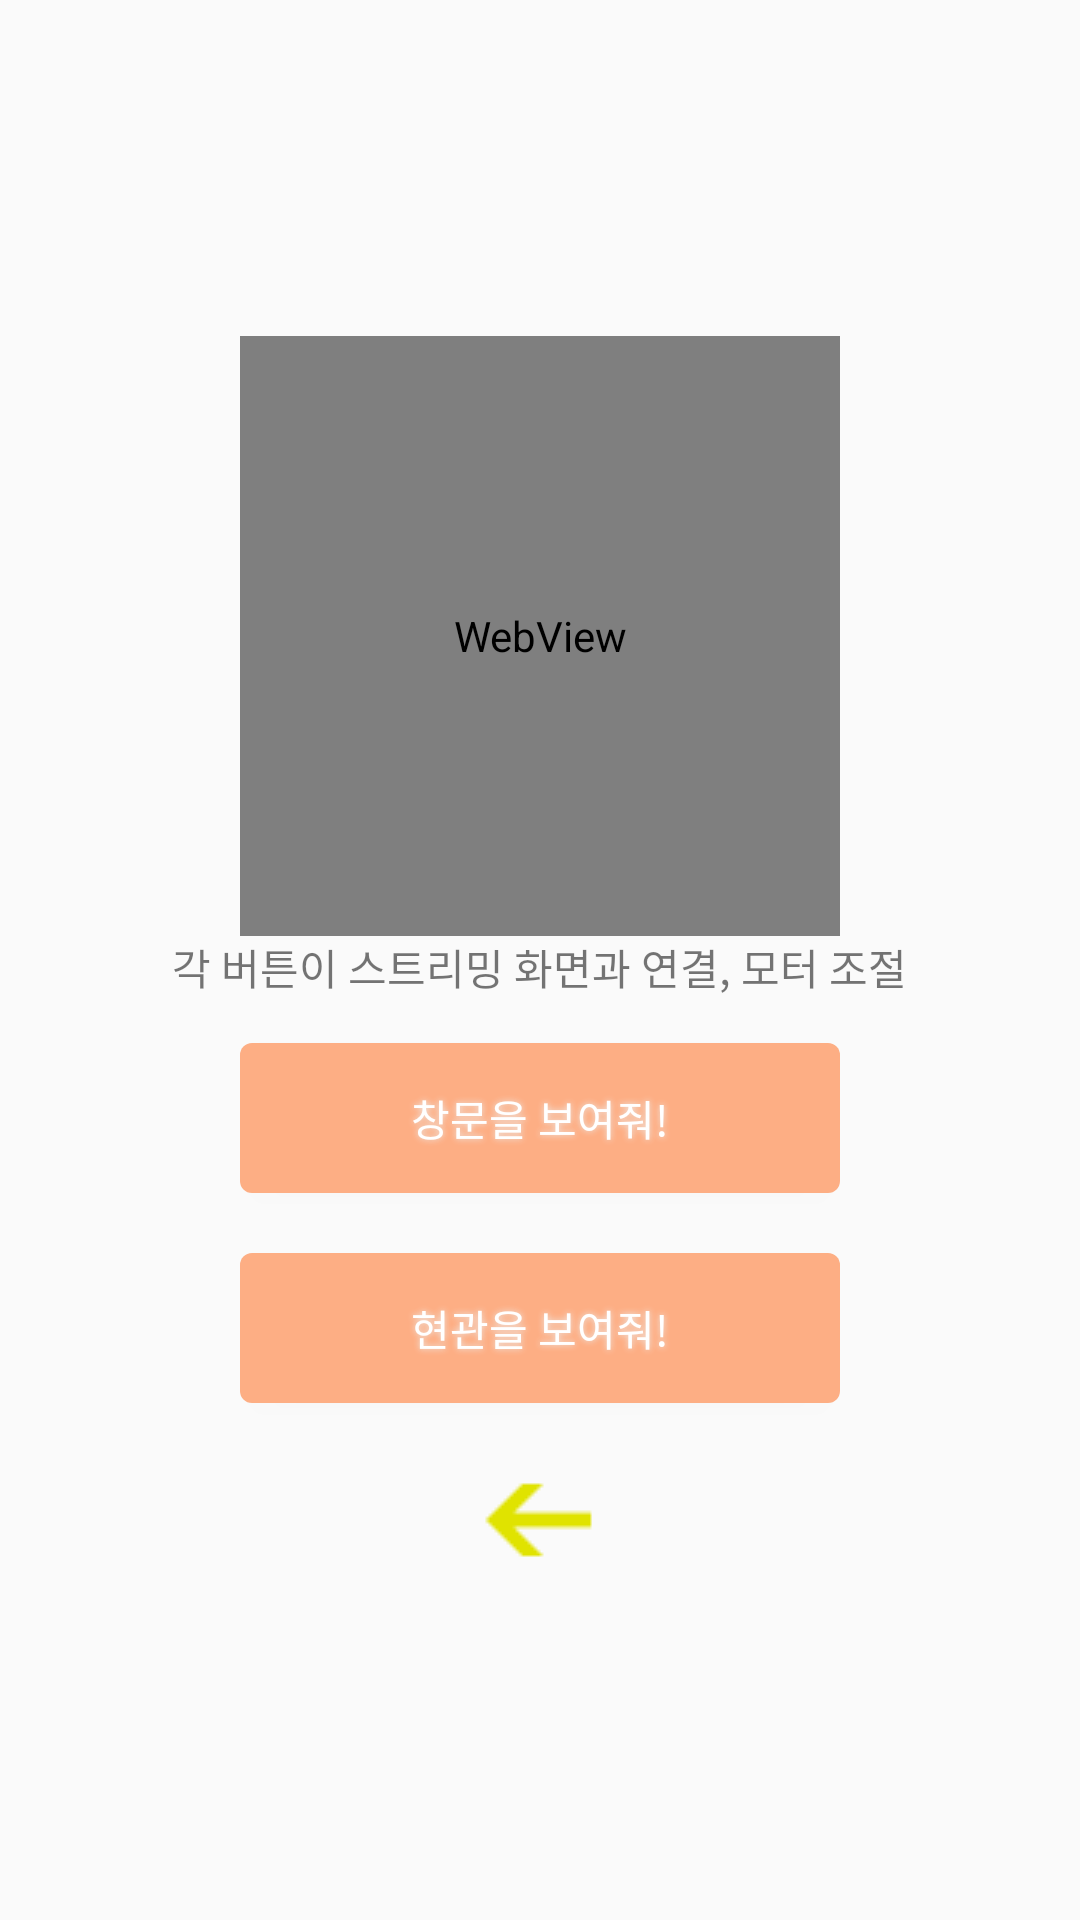

Icons on this 1080 × 1920 Android screen, each with the point to tap as [x,y]:
back: [538,1520]
